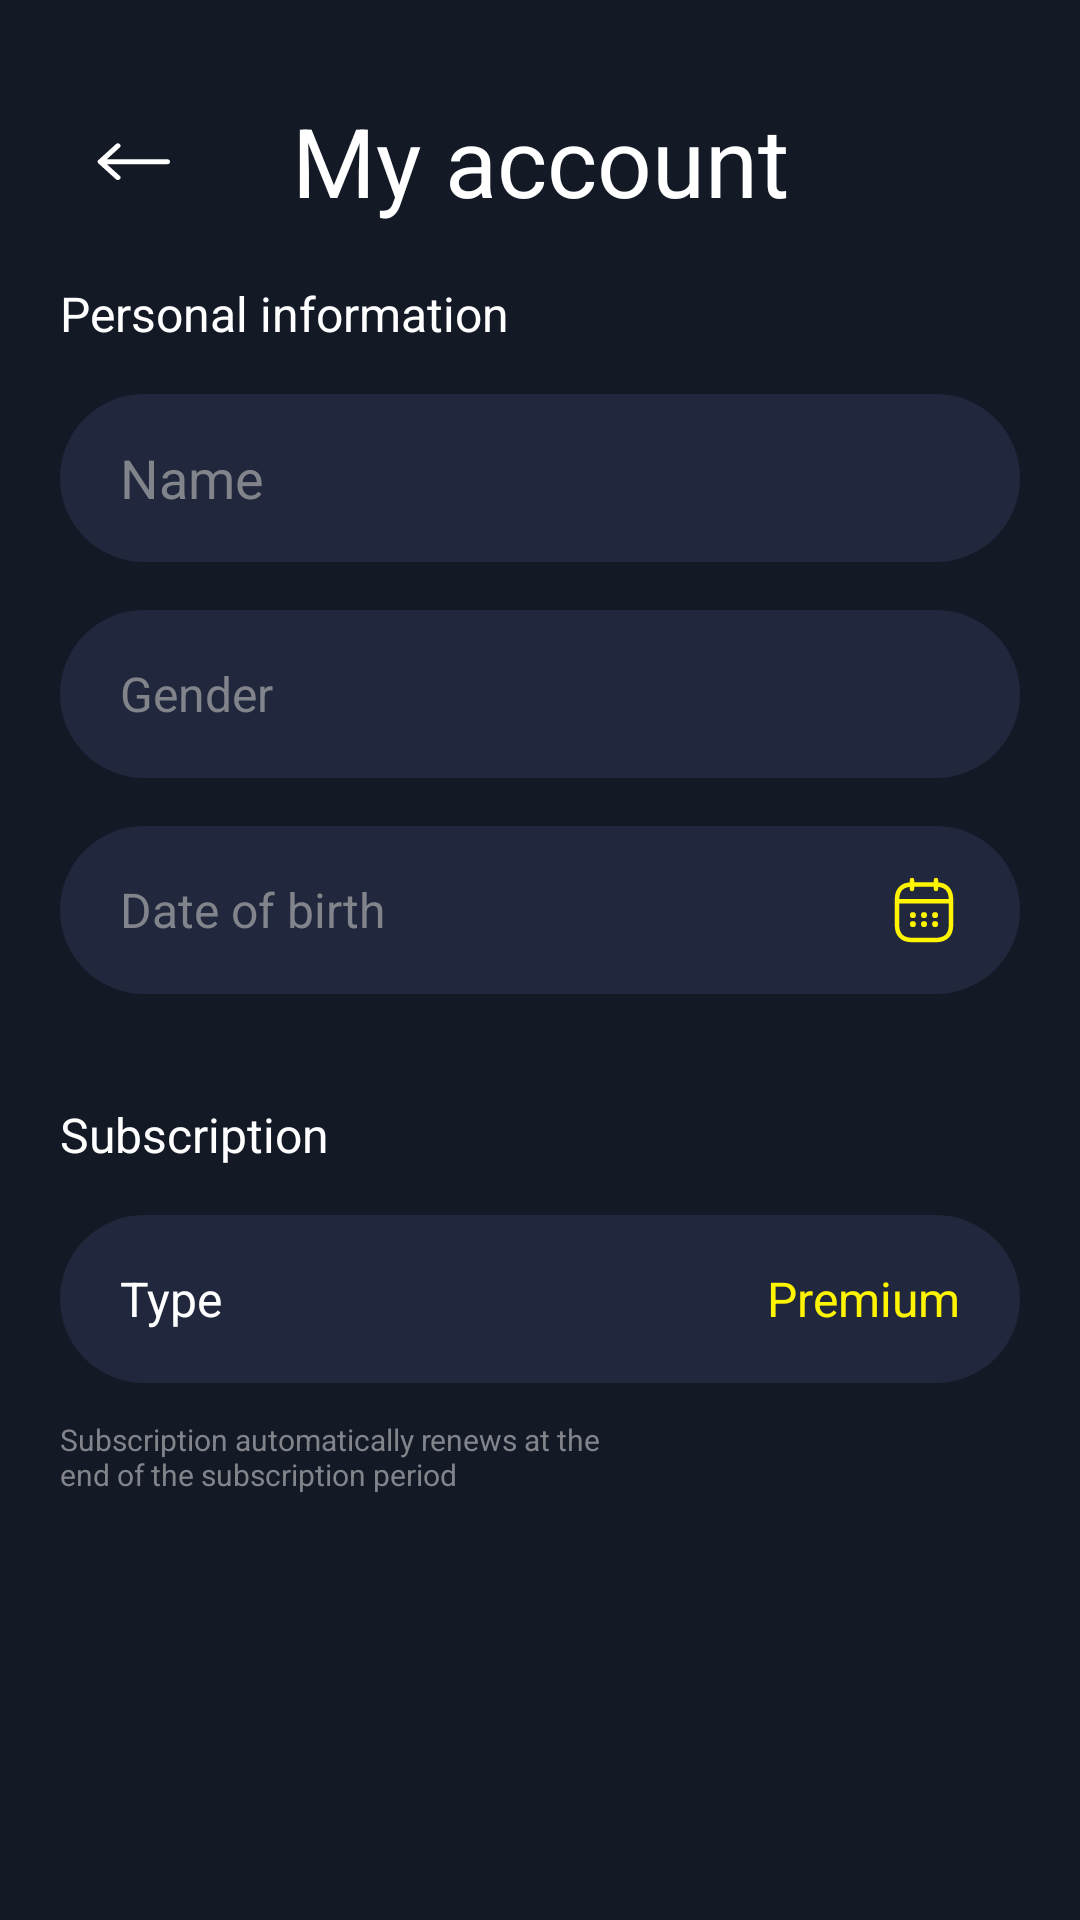

Locate icon controls on the screen. Image size 1080x1920, boxes as (x1, y1, x2, y2).
calendar: (894, 877, 954, 943)
